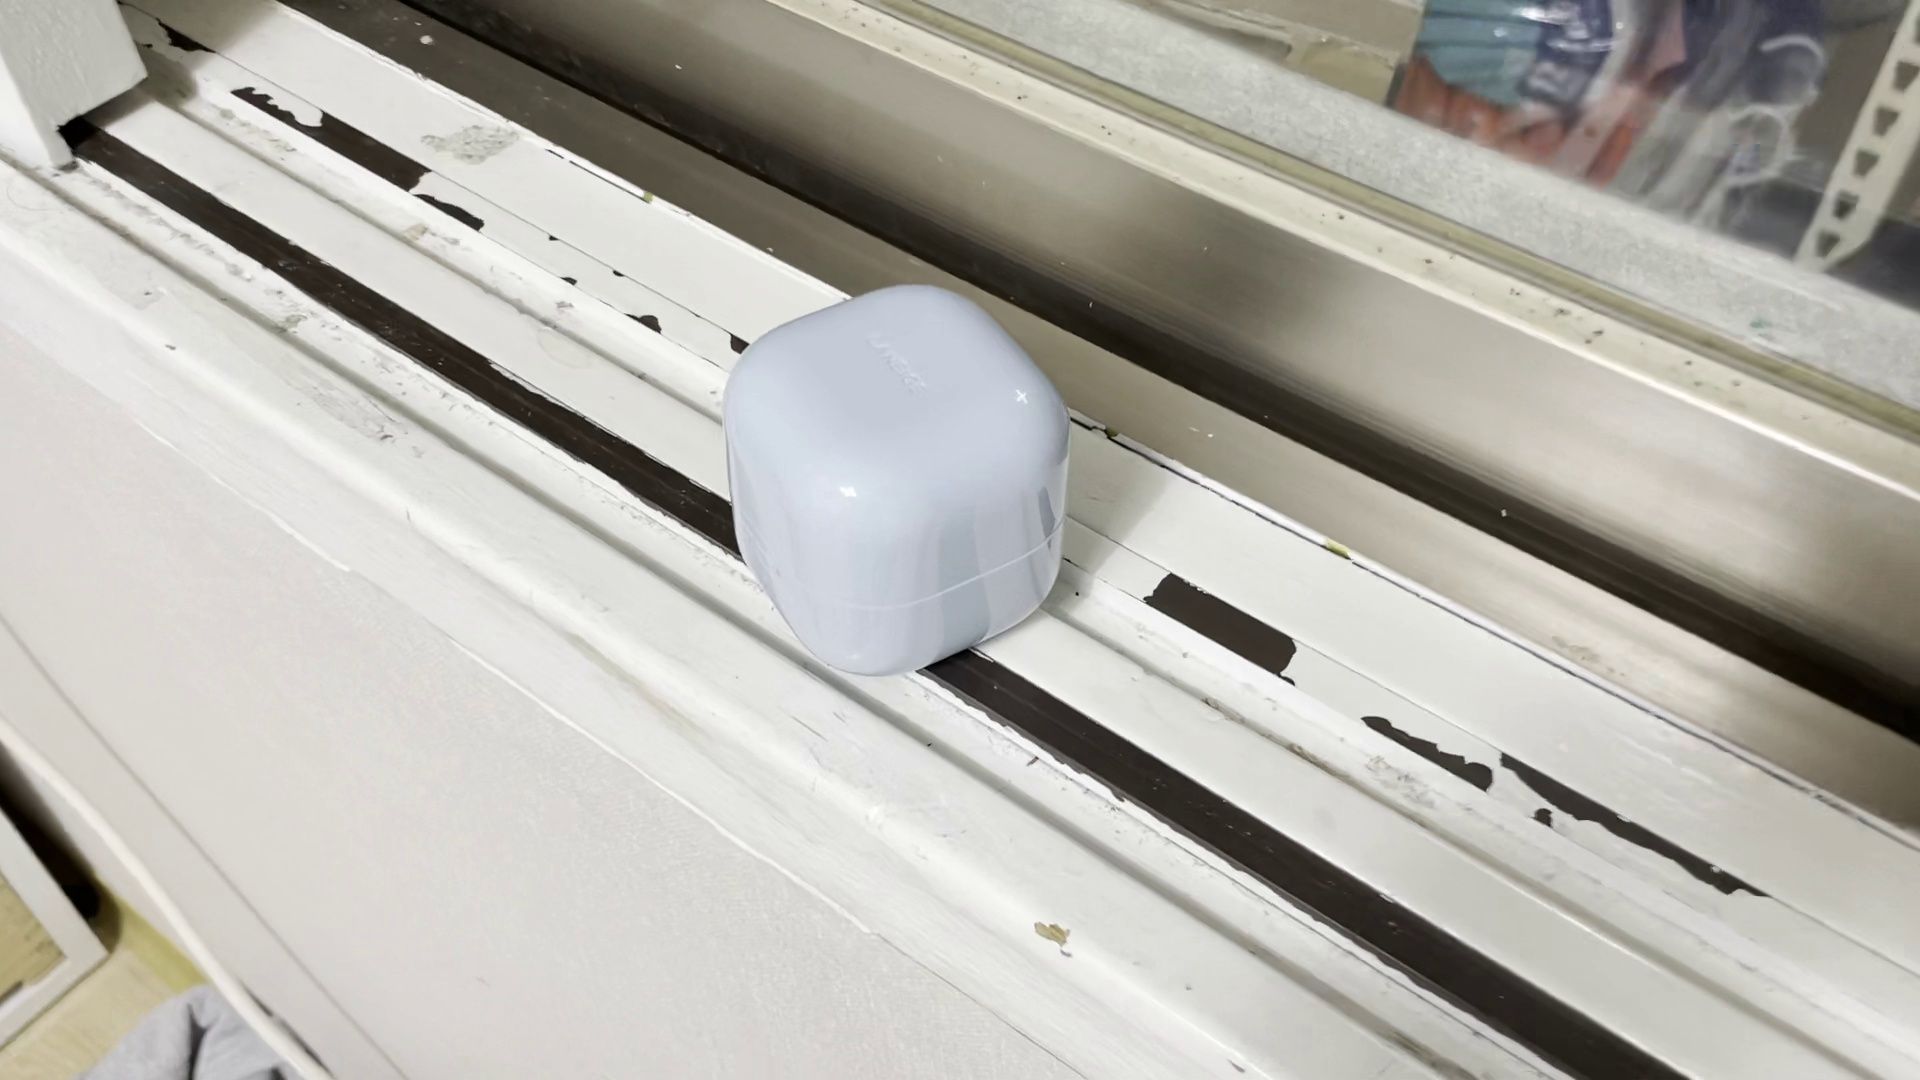cream: (727, 284, 1075, 682)
